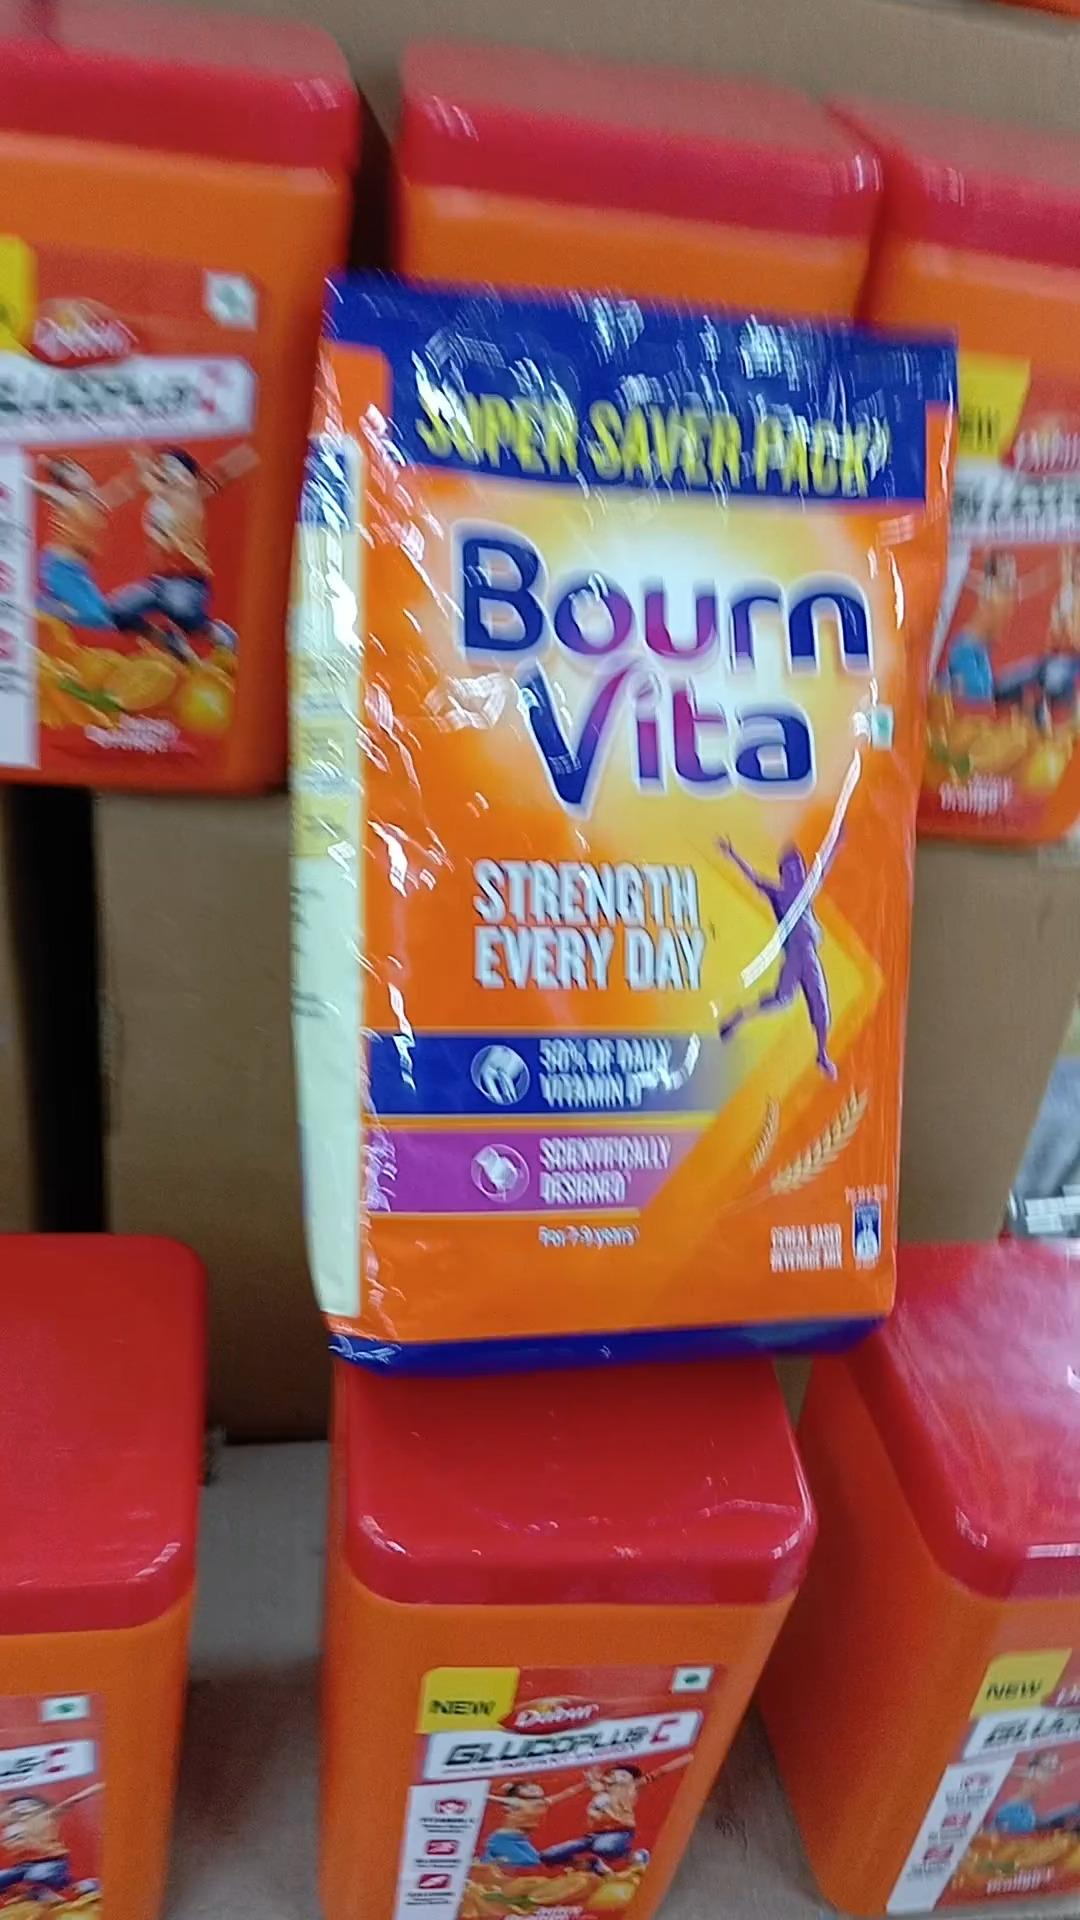BOURN_VITA_1_KG_POUCH: (295, 255, 920, 1377)
